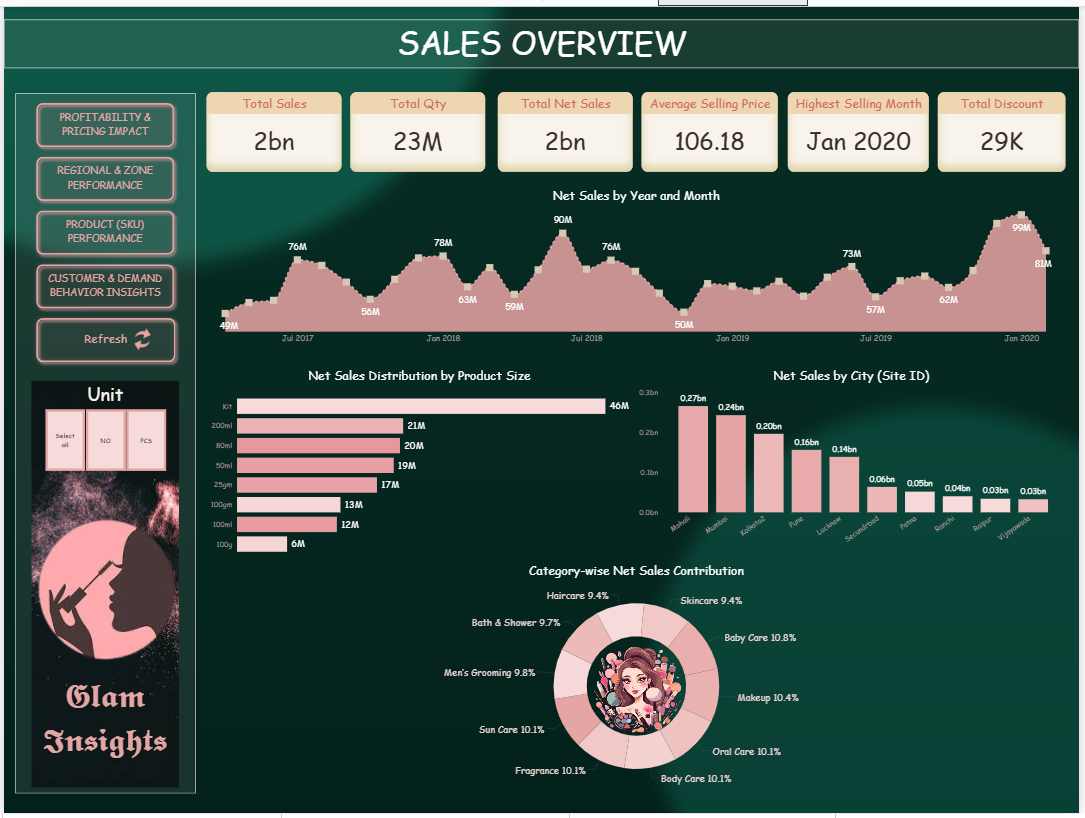

What the dashboard file says about the page in this screenshot:
{"tool":"powerbi","page":{"name":"SALES OVERVIEW","canvas":[2000,1500],"ordinal":0},"visuals":[{"type":"card","title":"Total Qty","fields":{"Values":["Page 1 — SALES OVERVIEW (KPI & visuals).Total Qty"]},"box":[644.2,158.1,251.2,148.8],"z":0},{"type":"card","title":"Total Net Sales","fields":{"Values":["Page 1 — SALES OVERVIEW (KPI & visuals).Total Net Sales"]},"box":[918.6,158.1,251.2,148.8],"z":1000},{"type":"card","title":"Average Selling Price","fields":{"Values":["Page 1 — SALES OVERVIEW (KPI & visuals).Average Selling Price"]},"box":[1186,158.1,253.5,148.8],"z":2000},{"type":"card","title":"Highest Selling Month","fields":{"Values":["Page 1 — SALES OVERVIEW (KPI & visuals).Highest Selling Month"]},"box":[1458.1,158.1,262.8,148.8],"z":3000},{"type":"card","title":"Total Discount","fields":{"Values":["Page 1 — SALES OVERVIEW (KPI & visuals).Total Discount"]},"box":[1737.2,158.1,237.2,148.8],"z":4000},{"type":"card","title":"Total Sales","fields":{"Values":["Page 1 — SALES OVERVIEW (KPI & visuals).Total Sales"]},"box":[376.7,158.1,251.2,148.8],"z":5000},{"type":"lineChart","title":"Net Sales by Year and Month","fields":{"Y":["Sum(Cosmetic_products_sales (1).Net Sales calculated)"],"Category":["Cosmetic_products_sales (1).Date.Variation.Date Hierarchy.Year","Cosmetic_products_sales (1).Date.Variation.Date Hierarchy.Month"]},"box":[376.2,335.7,1600,302.4],"z":6000},{"type":"clusteredColumnChart","title":"Net Sales by City (Site ID)","fields":{"Category":["Cosmetic_products_sales (1).Site Id"],"Y":["Sum(Cosmetic_products_sales (1).Net Sales calculated)"]},"box":[1176.2,669,800,347.6],"z":7000},{"type":"donutChart","title":"Category-wise Net Sales Contribution","fields":{"Y":["Sum(Cosmetic_products_sales (1).Net Sales calculated)"],"Category":["Cosmetic_products_sales (1).RandomCategory"]},"box":[376.2,1033.3,1600,431],"z":8000},{"type":"clusteredBarChart","title":"Net Sales Distribution by Product Size","fields":{"Category":["Cosmetic_products_sales (1).Size"],"Y":["Sum(Cosmetic_products_sales (1).Net Sales calculated)"]},"box":[376.2,669,792.9,364.3],"z":9000},{"type":"textbox","title":"SALES OVERVIEW","box":[0,22.5,2000,90],"z":10000},{"type":"image","box":[1083.3,1166.7,190.5,204.8],"z":11000},{"type":"shape","box":[20.5,161.5,335.9,1302.6],"z":12000},{"type":"actionButton","box":[51.3,169.2,274.4,100],"z":13000},{"type":"actionButton","box":[51.3,369.2,274.4,100],"z":14000},{"type":"actionButton","box":[51.3,269.2,274.4,100],"z":15000},{"type":"actionButton","box":[51.3,469.2,274.4,100],"z":16000},{"type":"image","box":[51.3,694.9,274.4,756.4],"z":17000},{"type":"image","box":[51.3,892.3,274.4,361.5],"z":18000},{"type":"slicer","title":"Unit","fields":{"Values":["Cosmetic_products_sales (1).Unit"]},"box":[51.3,694.9,274.4,174.4],"z":19000},{"type":"textbox","box":[51.3,1235.9,274.4,192.3],"z":20000},{"type":"actionButton","box":[51.3,569.2,276.9,100],"z":21000},{"type":"image","box":[215.4,597.4,82.1,41],"z":22000}]}

Visuals, with their boxes in screenshot pixels (x1, y1, x2, y2), scaled from the page's 2000x1500 canvas onto the 1085x818 screenshot:
"Total Qty" card: <bbox>349, 86, 486, 167</bbox>
"Total Net Sales" card: <bbox>498, 86, 635, 167</bbox>
"Average Selling Price" card: <bbox>643, 86, 781, 167</bbox>
"Highest Selling Month" card: <bbox>791, 86, 934, 167</bbox>
"Total Discount" card: <bbox>942, 86, 1071, 167</bbox>
"Total Sales" card: <bbox>204, 86, 341, 167</bbox>
"Net Sales by Year and Month" lineChart: <bbox>204, 183, 1072, 348</bbox>
"Net Sales by City (Site ID)" clusteredColumnChart: <bbox>638, 365, 1072, 554</bbox>
"Category-wise Net Sales Contribution" donutChart: <bbox>204, 563, 1072, 799</bbox>
"Net Sales Distribution by Product Size" clusteredBarChart: <bbox>204, 365, 634, 563</bbox>
"SALES OVERVIEW" textbox: <bbox>0, 12, 1084, 61</bbox>
image: <bbox>588, 636, 691, 748</bbox>
shape: <bbox>11, 88, 193, 798</bbox>
actionButton: <bbox>28, 92, 177, 147</bbox>
actionButton: <bbox>28, 201, 177, 256</bbox>
actionButton: <bbox>28, 147, 177, 201</bbox>
actionButton: <bbox>28, 256, 177, 310</bbox>
image: <bbox>28, 379, 177, 791</bbox>
image: <bbox>28, 487, 177, 684</bbox>
"Unit" slicer: <bbox>28, 379, 177, 474</bbox>
textbox: <bbox>28, 674, 177, 779</bbox>
actionButton: <bbox>28, 310, 178, 365</bbox>
image: <bbox>117, 326, 161, 348</bbox>
